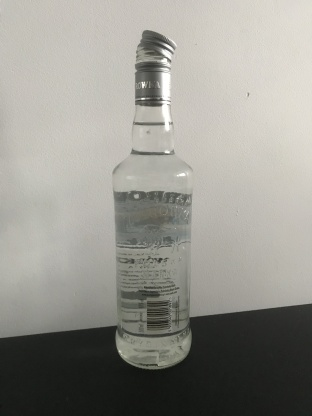nakretka: (133, 27, 178, 107)
